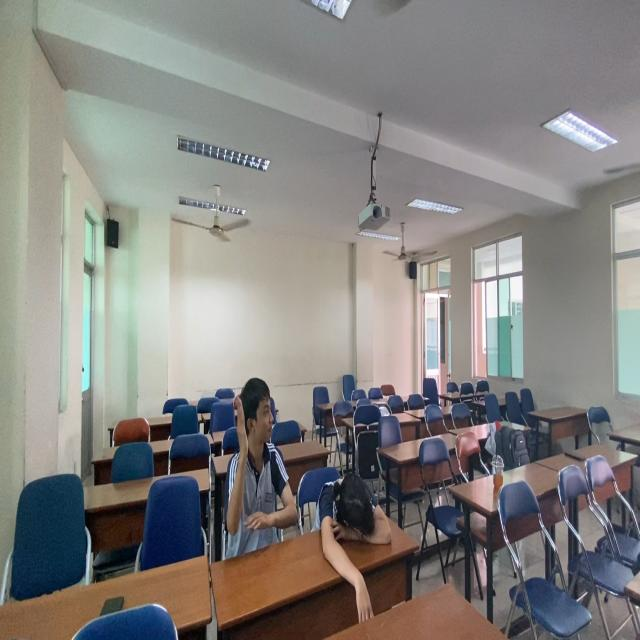raise_hand: (220, 373, 303, 555)
sleep: (313, 470, 395, 558)
